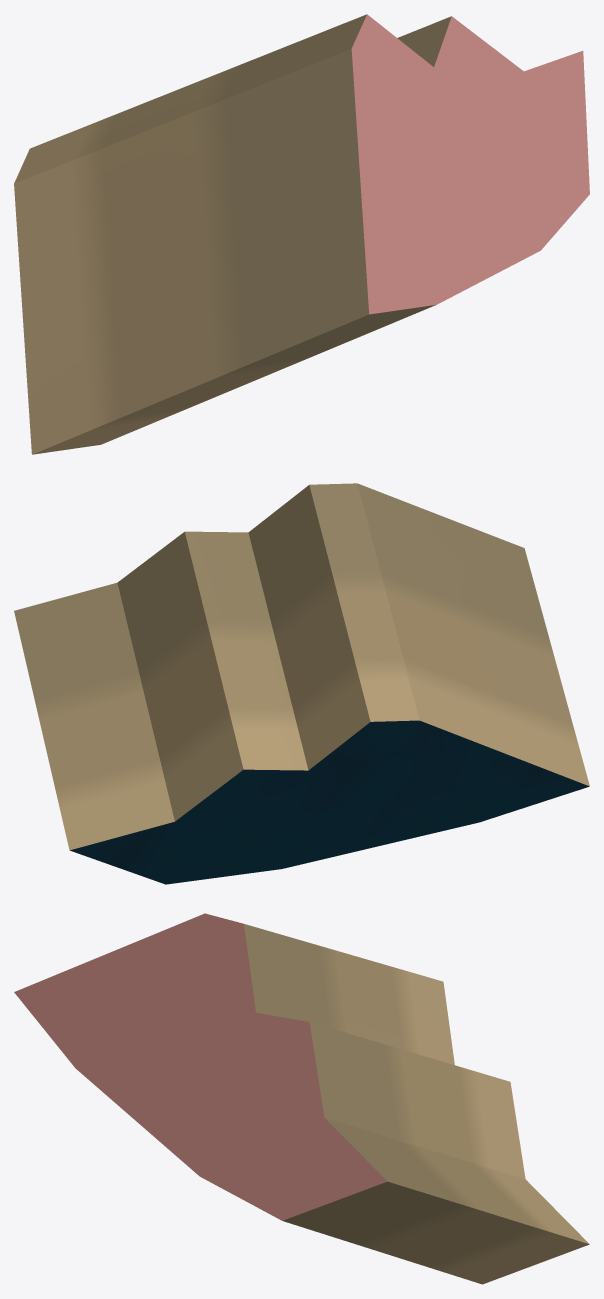
Rendered from 0690_Azerbaidjan.glb.
The picture shows the model from 3 angles, top to bottom: view 1: azimuth 30°, elevation 25°; view 2: azimuth 150°, elevation 25°; view 3: azimuth 270°, elevation 25°; orthographic projection. The views are drawn at different scales.
Parts seen in each view (by area): view 1: part_0; view 2: part_0; view 3: part_0.
Part boxes in pixels (x1,y1,x2,y2): part_0: [14, 14, 589, 454]; part_0: [14, 483, 589, 884]; part_0: [14, 913, 589, 1284].
Size of the model in its own units: 0.3823 by 0.2414 by 0.3656.
Materials: 1 (1 with a texture image).
